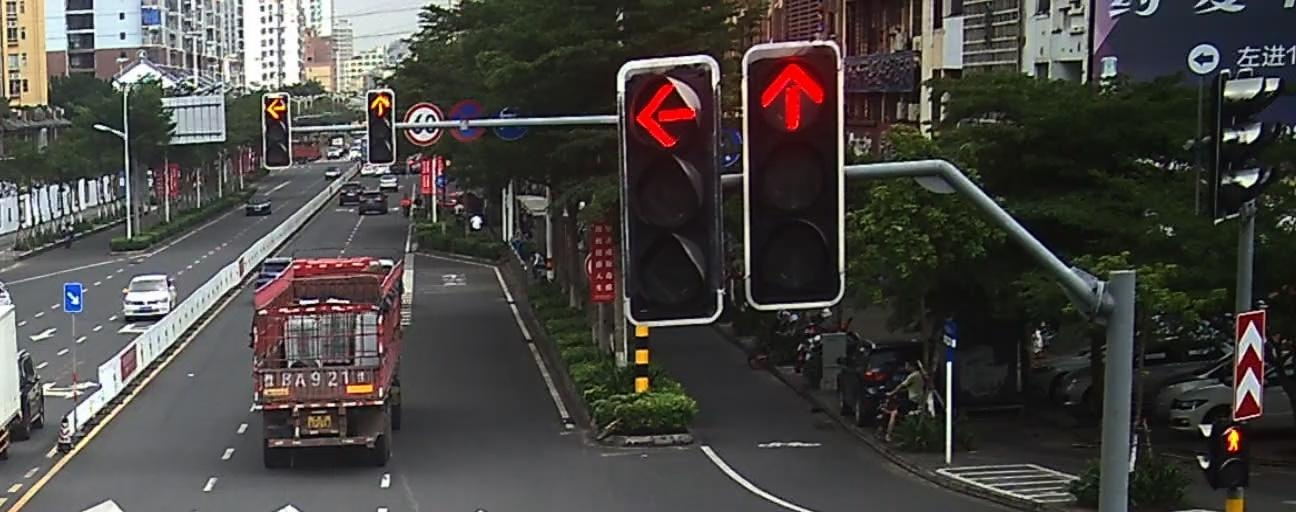redleft: (628, 79, 701, 153), (265, 96, 287, 121)
redpeople: (1221, 424, 1246, 454)
redstraight: (754, 59, 830, 134), (369, 91, 393, 116)
